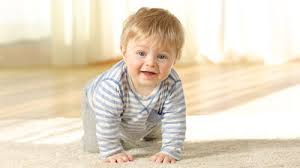child: (75, 5, 193, 163)
